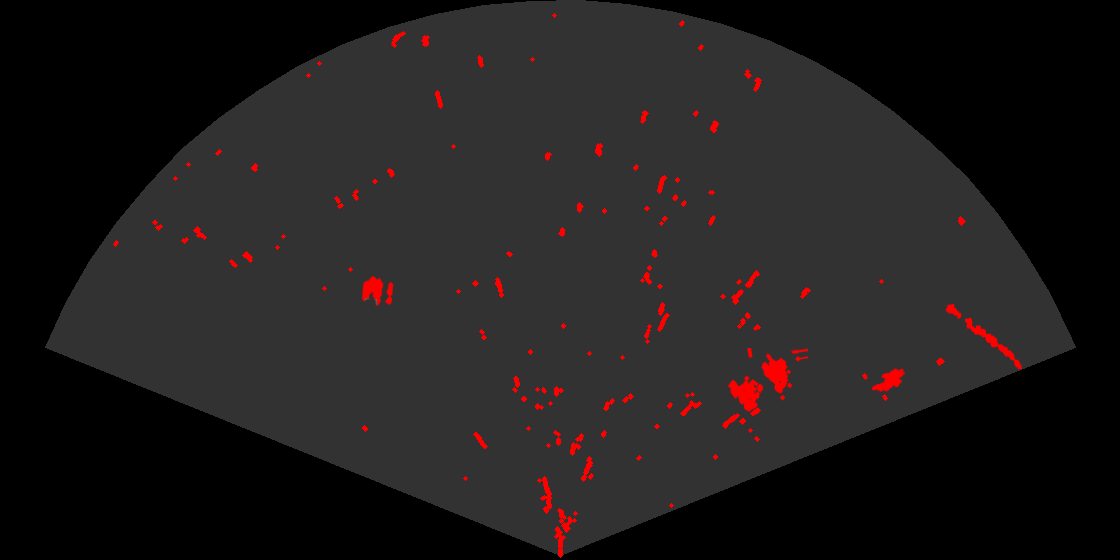AUV: (870, 367, 907, 394)
ball: (361, 274, 395, 308)
cage: (726, 348, 808, 413)
chain: (944, 302, 1024, 371)
